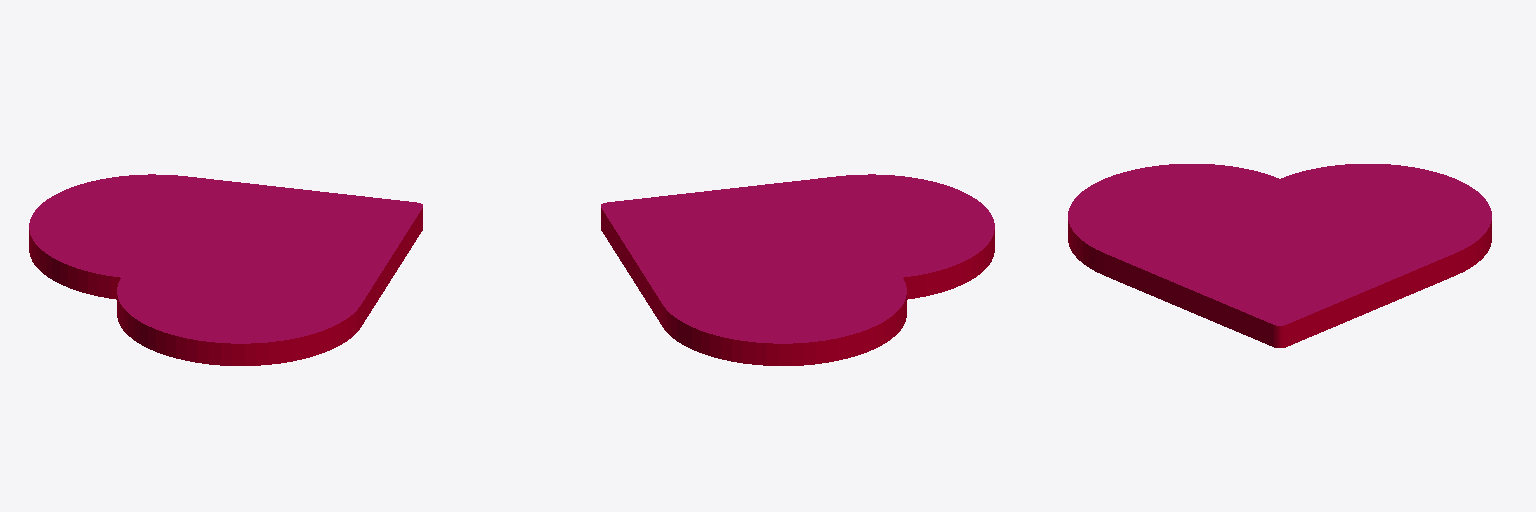
The model's file is heart.obj.
3 renders of one model, left to right at view 1: azimuth 30°, elevation 25°; view 2: azimuth 150°, elevation 25°; view 3: azimuth 270°, elevation 25°, orthographic.
Parts seen in each view (by area): view 1: top_Cylinder.000, sides_Cylinder.003; view 2: top_Cylinder.000, sides_Cylinder.003; view 3: top_Cylinder.000, sides_Cylinder.003.
Boxes of the visible parts, box(x1,y1,x2,y2) form: top_Cylinder.000: box(29, 174, 422, 343); sides_Cylinder.003: box(29, 208, 422, 365); top_Cylinder.000: box(601, 174, 994, 343); sides_Cylinder.003: box(601, 208, 994, 365); top_Cylinder.000: box(1068, 164, 1491, 325); sides_Cylinder.003: box(1068, 221, 1491, 347).
Bounding box in the file's own units: 15.46 × 1 × 17.07.